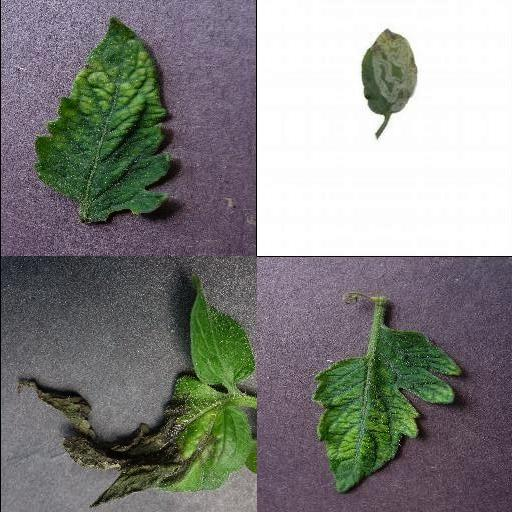Late Blight: (12, 376, 250, 508)
Leaf Miner: (362, 28, 419, 116)
Mosaic Virus: (31, 18, 173, 224), (309, 324, 463, 496)
